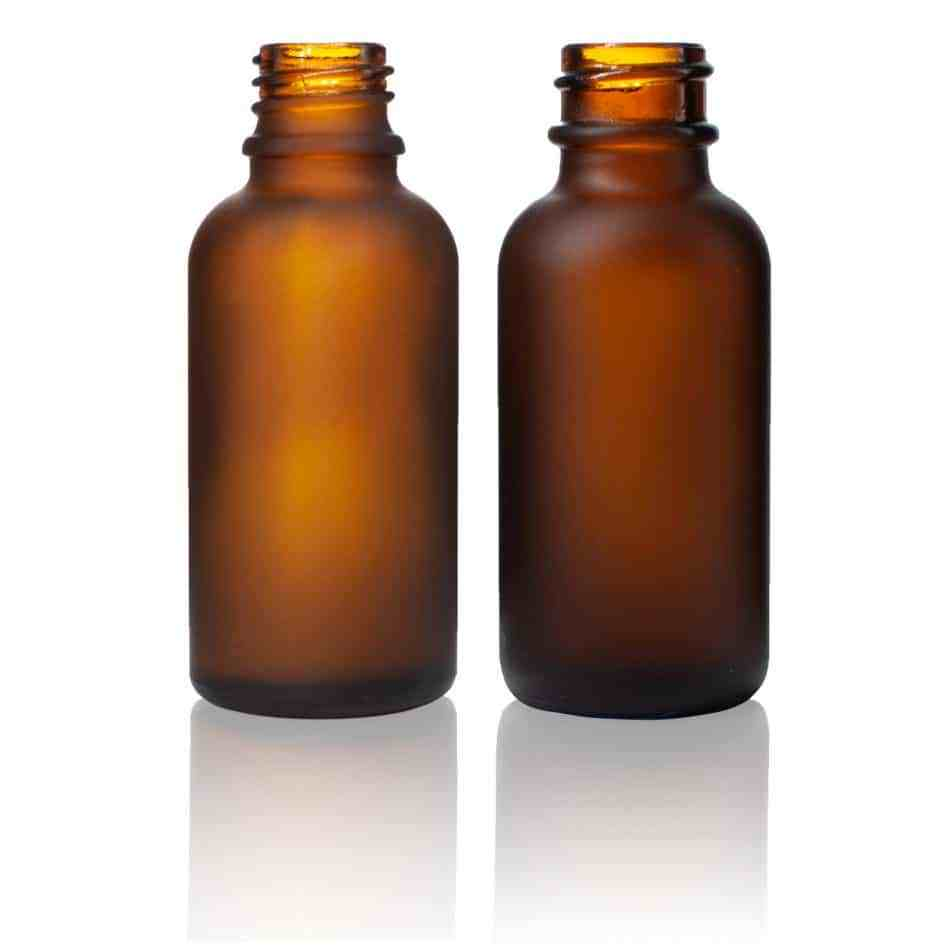glass_bottle: (492, 29, 780, 731), (180, 31, 468, 725)
